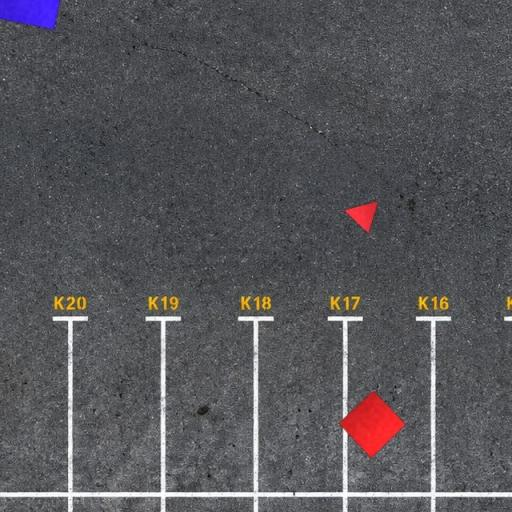RED_SQUARE: (338, 390, 406, 459)
